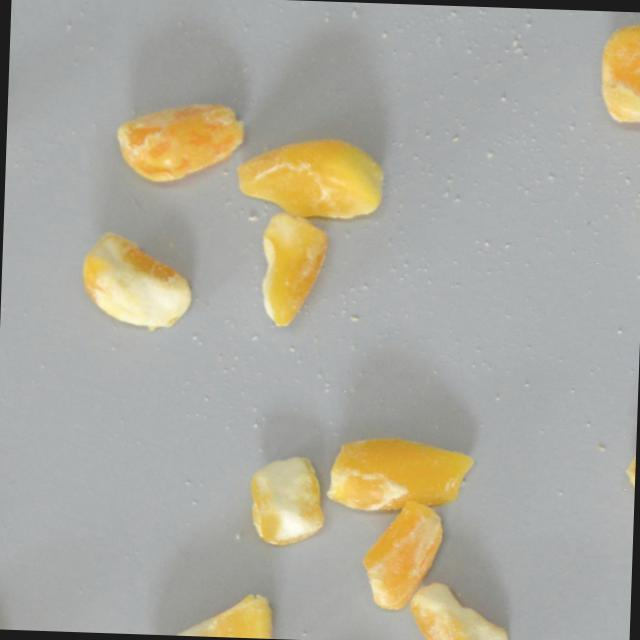dañado: (229, 130, 388, 221), (322, 431, 479, 516), (111, 93, 251, 186), (77, 228, 198, 332), (357, 495, 447, 613), (254, 207, 330, 333), (405, 576, 516, 640), (597, 20, 640, 125), (620, 428, 636, 544)
punto_negro: (245, 449, 330, 548), (136, 582, 277, 639)
